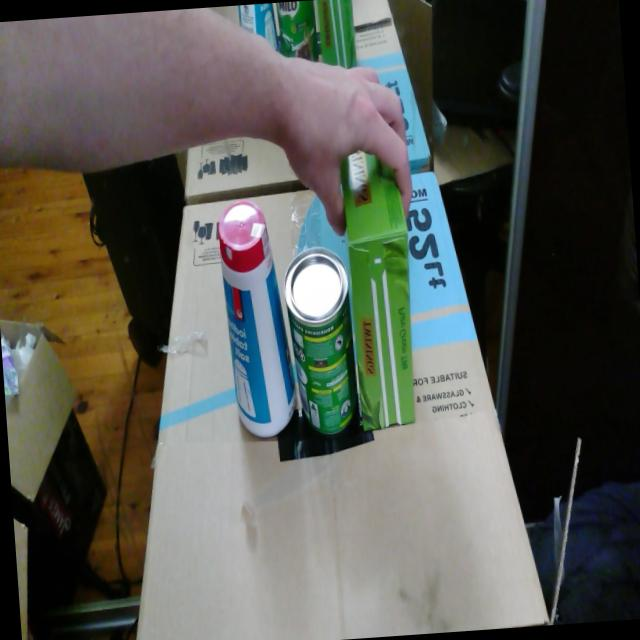nestle_milo_tin: (283, 247, 358, 435)
twinings_greentea_box: (339, 150, 414, 430)
woolworths_salt_bottle: (218, 200, 296, 437)
